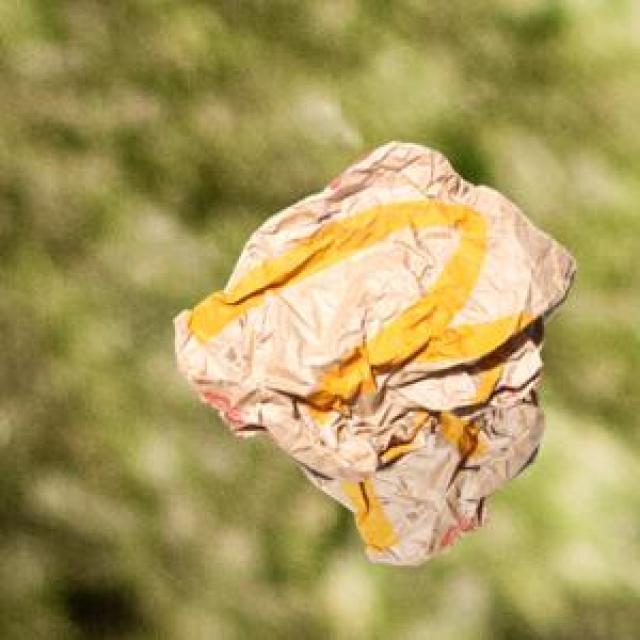paper: (171, 139, 572, 478), (301, 380, 540, 561)
